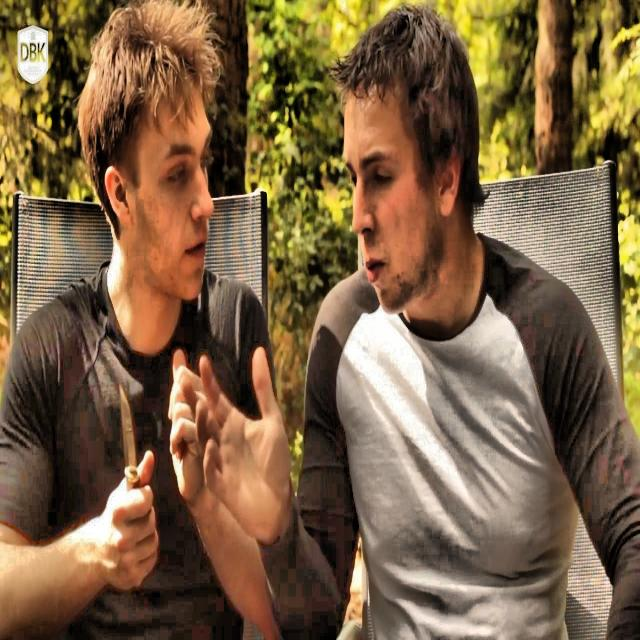knife: (118, 388, 140, 492)
